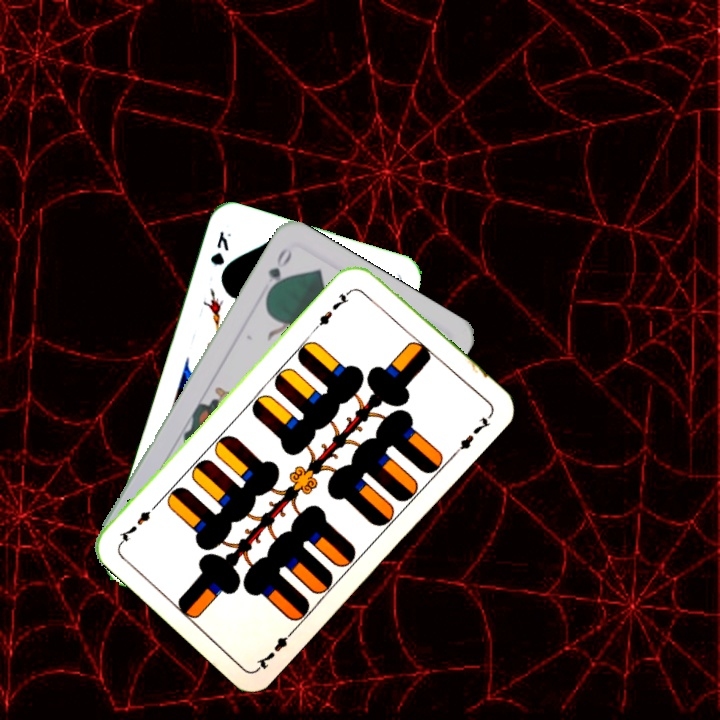E7: (311, 284, 358, 331), (252, 624, 298, 672)
GK: (206, 227, 234, 268)
GO: (262, 244, 295, 299)
